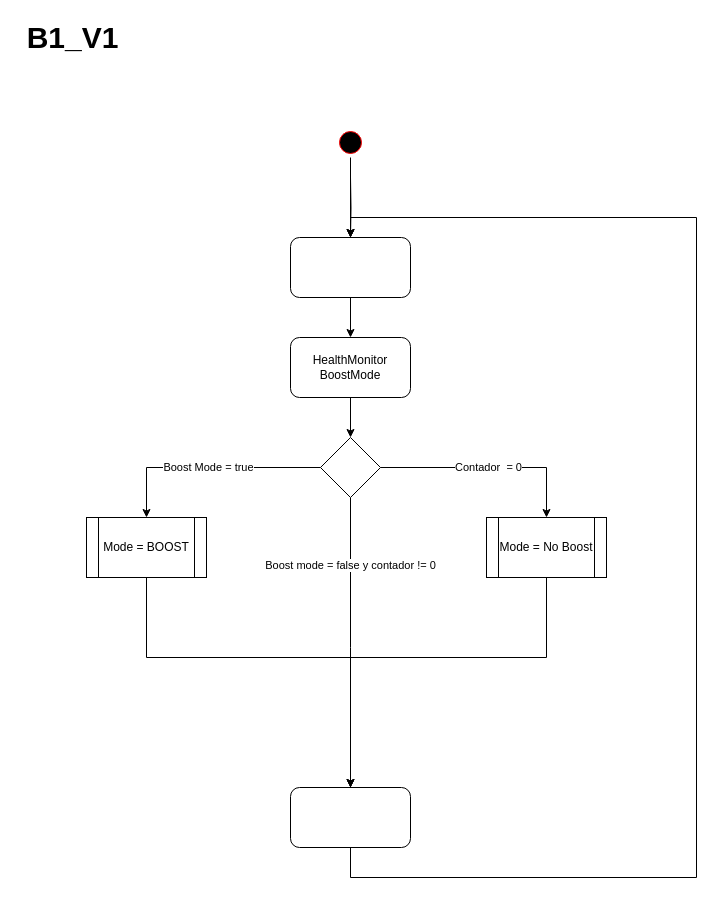
The diagram is 722 pixels wide and 903 high, and some of its shapes have lost their labels. The shapes that lost their labels are listed below. From the top down, each one's centre as x and y in pixels, then its label:
At point (350, 267): "Sensado".
At point (350, 817): "SetVoltage".
